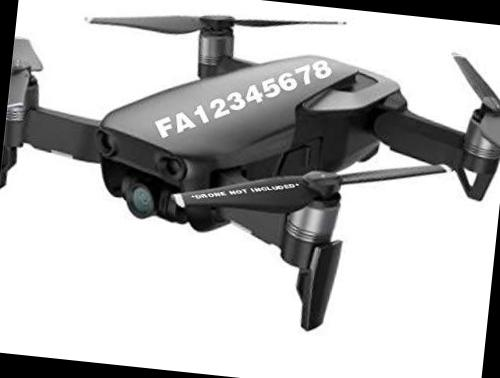drone: (0, 0, 500, 356)
